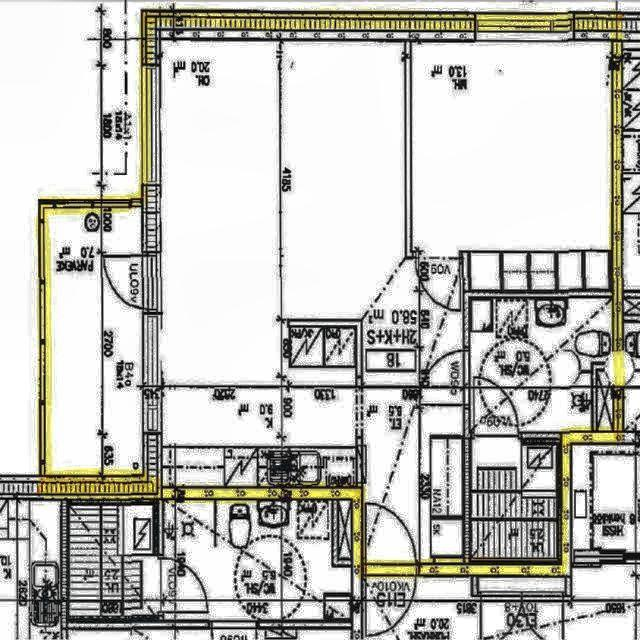room: (412, 41, 612, 292), (47, 209, 140, 471), (164, 499, 350, 620), (470, 299, 612, 433), (71, 505, 161, 613)
